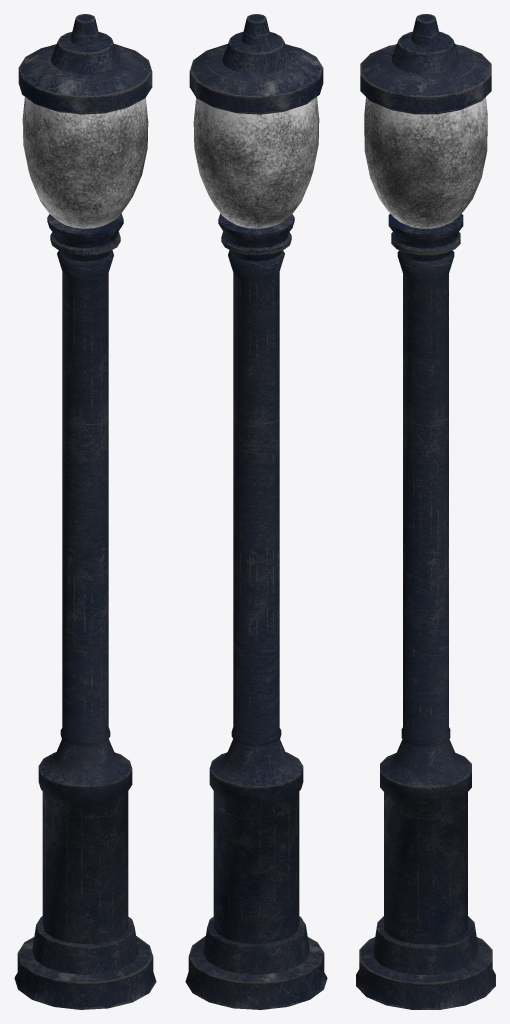
File: lamppost.obj
3 views of the same model, side by side, from view 1: azimuth 30°, elevation 25°; view 2: azimuth 150°, elevation 25°; view 3: azimuth 270°, elevation 25° (orthographic).
Parts seen in each view (by area): view 1: defaultMaterial; view 2: defaultMaterial; view 3: defaultMaterial.
Part boxes in pixels (bbox=[...]): defaultMaterial: bbox=[14, 14, 156, 1009]; defaultMaterial: bbox=[185, 14, 327, 1009]; defaultMaterial: bbox=[356, 14, 495, 1009].
Size of the model in its own units: 0.2633 by 2 by 0.2633.
